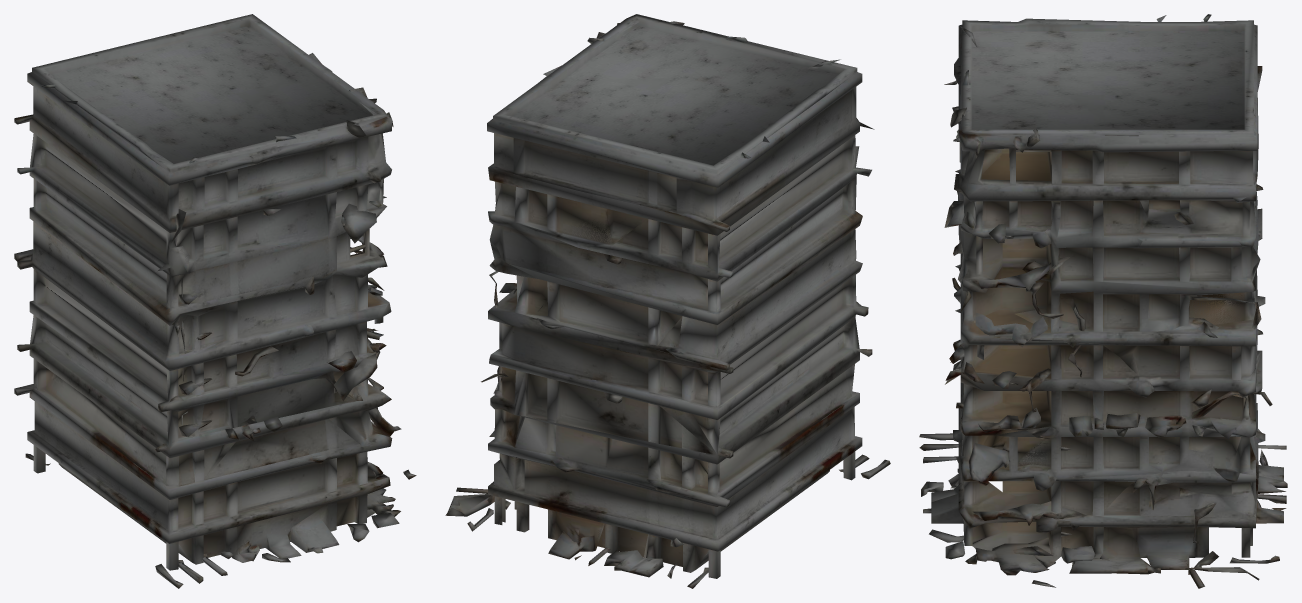
Rendered from office_ruin.glb.
3 renders of one model, left to right at view 1: azimuth 30°, elevation 25°; view 2: azimuth 150°, elevation 25°; view 3: azimuth 270°, elevation 25°, orthographic. The views are drawn at different scales.
Parts seen in each view (by area): view 1: tripo_node_b701be21-75b9-4153-96d5-9718c5729cd9; view 2: tripo_node_b701be21-75b9-4153-96d5-9718c5729cd9; view 3: tripo_node_b701be21-75b9-4153-96d5-9718c5729cd9.
Part boxes in pixels (left/top/right/bottom): tripo_node_b701be21-75b9-4153-96d5-9718c5729cd9: left=14, top=14, right=416, bottom=588; tripo_node_b701be21-75b9-4153-96d5-9718c5729cd9: left=445, top=14, right=890, bottom=588; tripo_node_b701be21-75b9-4153-96d5-9718c5729cd9: left=919, top=14, right=1287, bottom=588.
Size of the model in its own units: 0.748 by 0.998 by 0.7676.
1 material, 1 textured.
